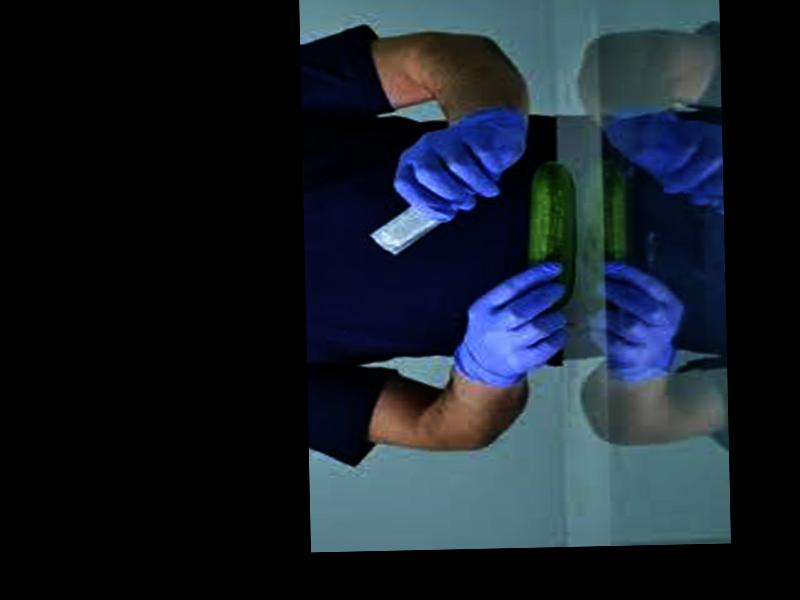Cucumber: (525, 159, 578, 308)
